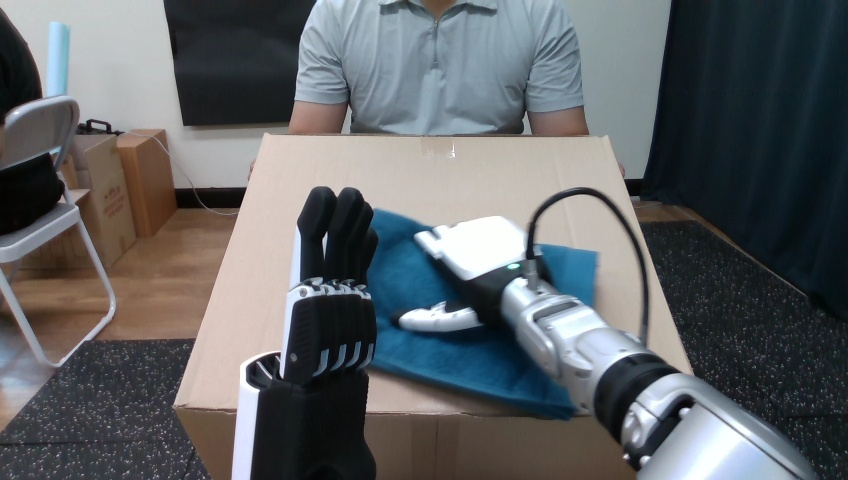left robot hand: (393, 187, 814, 478), (232, 187, 377, 478), (533, 193, 644, 339)
